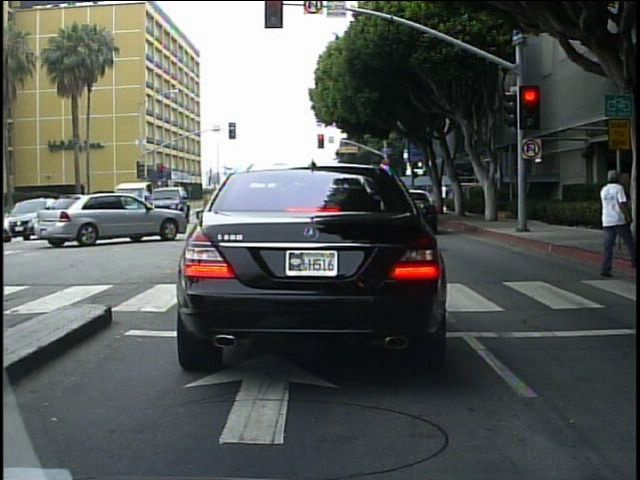person: (593, 167, 631, 277), (635, 166, 639, 294), (438, 180, 452, 212)
